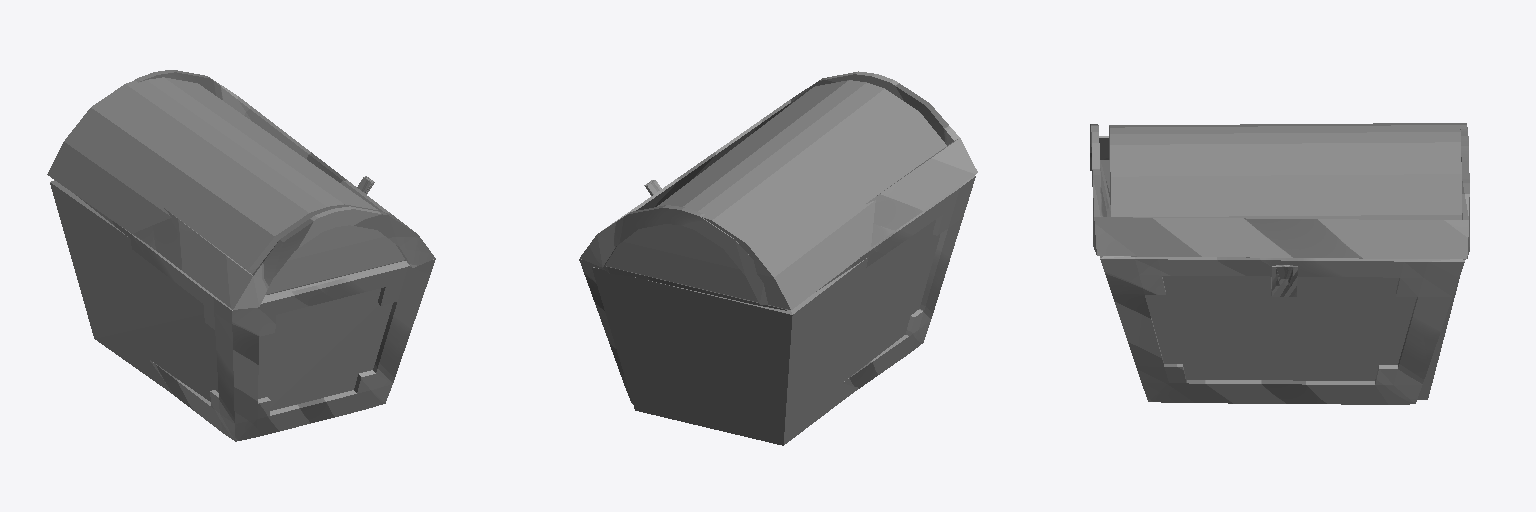
3 views of the same model, side by side, from view 1: azimuth 30°, elevation 25°; view 2: azimuth 150°, elevation 25°; view 3: azimuth 270°, elevation 25° (orthographic).
Visible parts, largest first — view 1: Chest; view 2: Chest; view 3: Chest.
Boxes of the visible parts, x1,y1,x2,y2 form: Chest: [47, 70, 435, 441]; Chest: [579, 71, 977, 445]; Chest: [1090, 123, 1469, 404].
Bounding box in the file's own units: 130 × 123 × 182.
Materials: 2 (1 with a texture image).